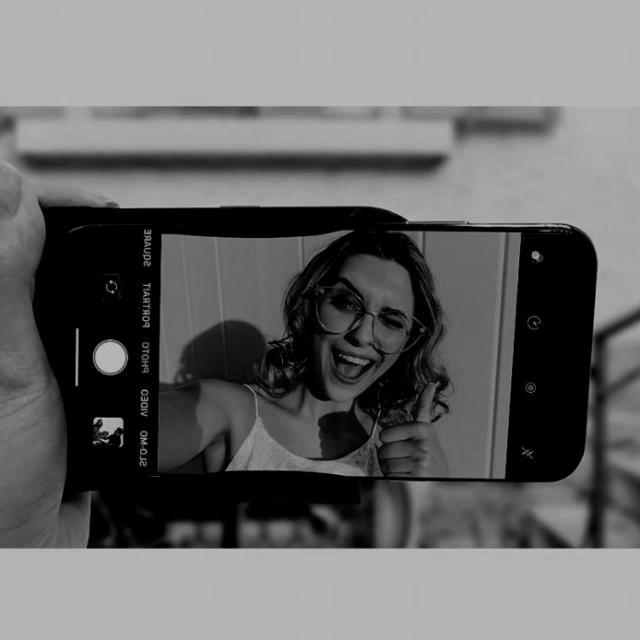fake: (10, 216, 600, 487)
